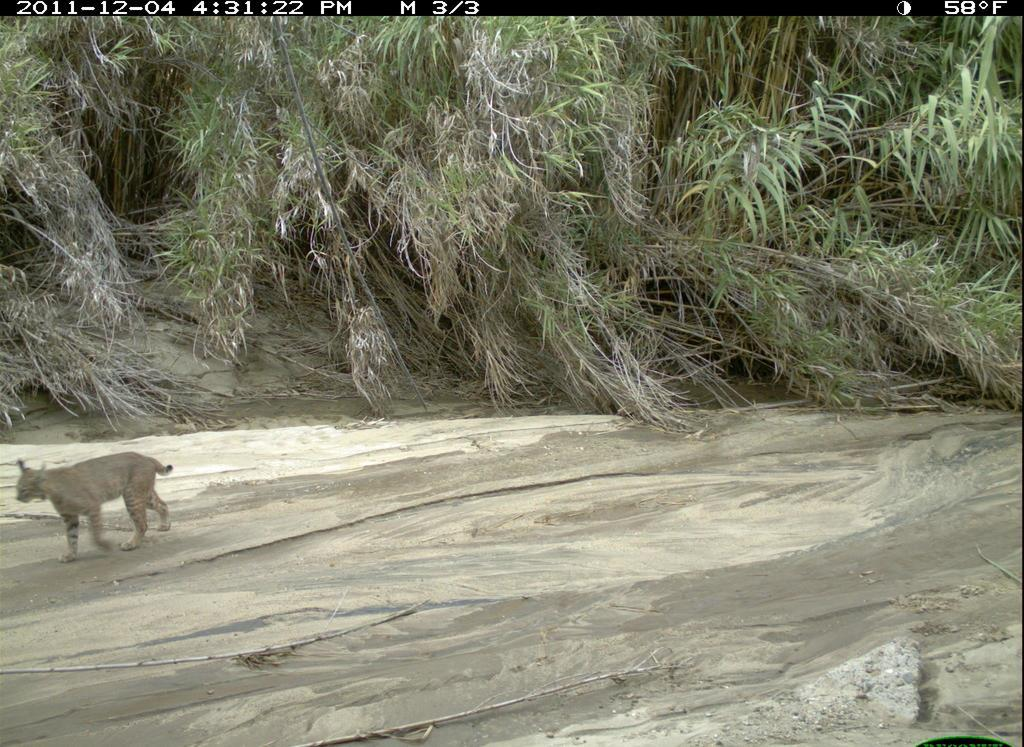bobcat: (15, 449, 182, 562)
